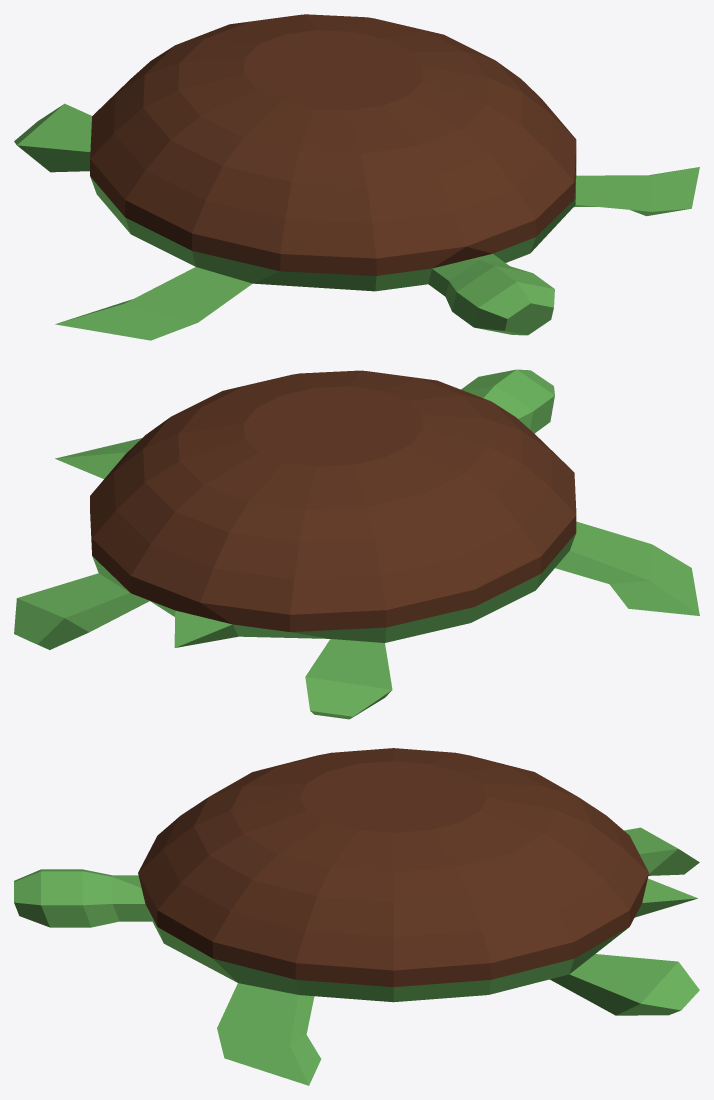
The model's file is Turtle_1.fbx.
The picture shows the model from 3 angles, top to bottom: view 1: azimuth 30°, elevation 25°; view 2: azimuth 150°, elevation 25°; view 3: azimuth 270°, elevation 25°; orthographic projection. The views are drawn at different scales.
Visible parts, largest first — view 1: Circle; view 2: Circle; view 3: Circle.
Boxes of the visible parts, left/top/right/bottom form: Circle: left=14, top=14, right=699, bottom=340; Circle: left=14, top=369, right=699, bottom=719; Circle: left=14, top=748, right=699, bottom=1085.
Bounding box in the file's own units: 280 × 61.89 × 268.
